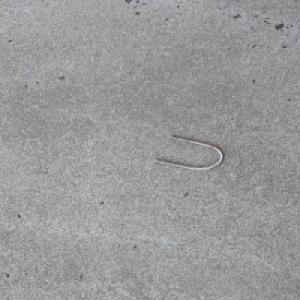ClampPart: (152, 135, 225, 170)
